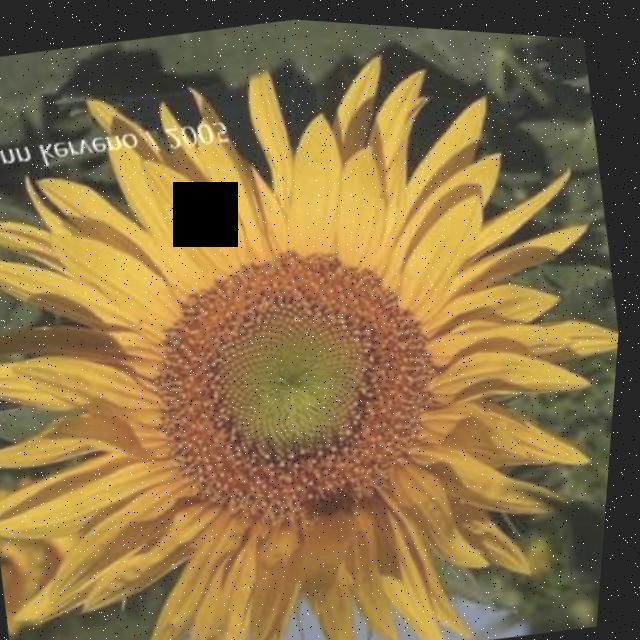sunflower: (0, 9, 639, 640)
